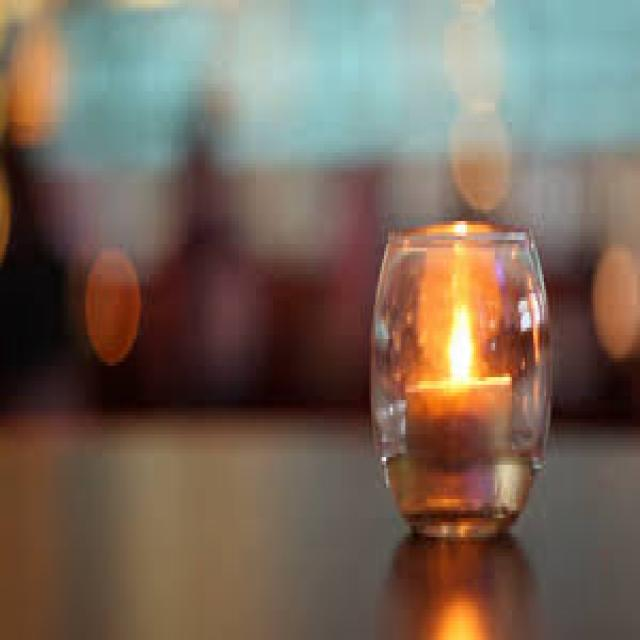fire: (437, 290, 478, 388)
